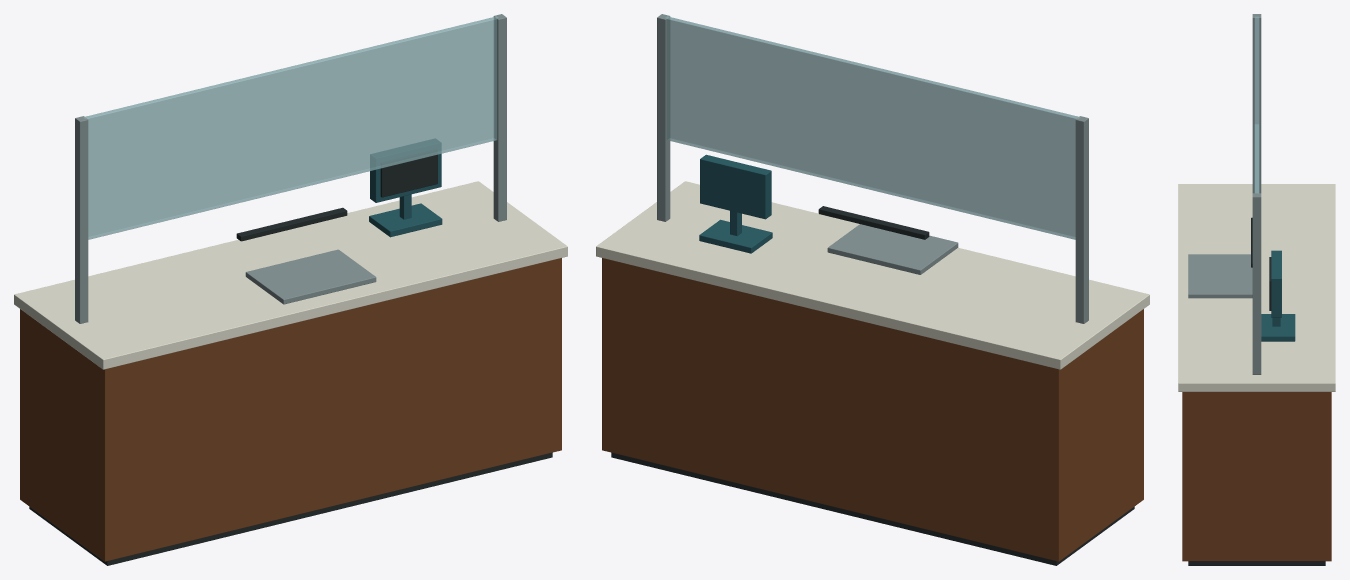
Rendered from bank-teller-counter.glb.
3 renders of one model, left to right at view 1: azimuth 30°, elevation 25°; view 2: azimuth 150°, elevation 25°; view 3: azimuth 270°, elevation 25°, orthographic. The views are drawn at different scales.
Visible parts, largest first — view 1: Counter_Body, Security_Glazing, Worktop, Transaction_Tray, Screen_Post, Screen_Post.001, Counter_Base, Screen, Screen_Housing, Terminal_Foot, Document_Slot; view 2: Counter_Body, Security_Glazing, Worktop, Transaction_Tray, Screen_Housing, Screen_Post, Screen_Post.001, Counter_Base, Terminal_Foot, Document_Slot; view 3: Worktop, Counter_Body, Transaction_Tray, Screen_Post.001, Screen_Post, Security_Glazing, Terminal_Foot, Screen_Housing, Counter_Base.
Boxes of the visible parts, x1=… form: Counter_Body: x1=20, y1=258, x2=561, y2=561; Security_Glazing: x1=83, y1=16, x2=498, y2=239; Worktop: x1=14, y1=181, x2=567, y2=369; Transaction_Tray: x1=245, y1=249, x2=376, y2=304; Screen_Post: x1=75, y1=116, x2=88, y2=323; Screen_Post.001: x1=493, y1=14, x2=506, y2=221; Counter_Base: x1=29, y1=452, x2=552, y2=565; Screen: x1=380, y1=149, x2=437, y2=197; Screen_Housing: x1=370, y1=139, x2=441, y2=202; Terminal_Foot: x1=369, y1=203, x2=442, y2=237; Document_Slot: x1=236, y1=207, x2=347, y2=241; Counter_Body: x1=602, y1=258, x2=1143, y2=561; Security_Glazing: x1=665, y1=16, x2=1080, y2=239; Worktop: x1=596, y1=181, x2=1149, y2=369; Transaction_Tray: x1=827, y1=224, x2=958, y2=274; Screen_Housing: x1=700, y1=154, x2=771, y2=219; Screen_Post: x1=1075, y1=116, x2=1088, y2=323; Screen_Post.001: x1=657, y1=14, x2=670, y2=221; Counter_Base: x1=611, y1=452, x2=1134, y2=565; Terminal_Foot: x1=699, y1=219, x2=772, y2=253; Document_Slot: x1=818, y1=206, x2=929, y2=239; Worktop: x1=1178, y1=184, x2=1335, y2=391; Counter_Body: x1=1182, y1=392, x2=1331, y2=561; Transaction_Tray: x1=1188, y1=254, x2=1252, y2=298; Screen_Post.001: x1=1252, y1=193, x2=1261, y2=374; Screen_Post: x1=1252, y1=14, x2=1261, y2=193; Security_Glazing: x1=1254, y1=16, x2=1259, y2=193; Terminal_Foot: x1=1261, y1=314, x2=1295, y2=341; Screen_Housing: x1=1271, y1=250, x2=1281, y2=317; Counter_Base: x1=1188, y1=561, x2=1325, y2=565.
Size of the model in its own units: 2.4 by 2.05 by 0.8.
